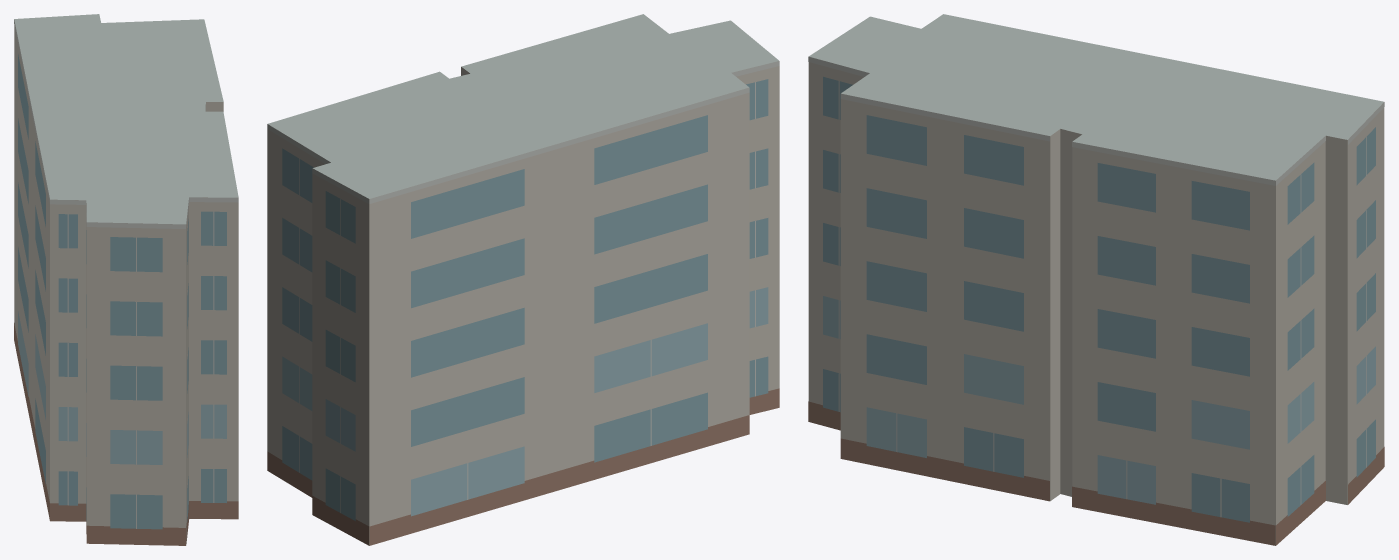
Rendered from survey-upis-32574920.glb.
The picture shows the model from 3 angles, left to right: view 1: azimuth 30°, elevation 25°; view 2: azimuth 150°, elevation 25°; view 3: azimuth 270°, elevation 25°; orthographic projection. The views are drawn at different scales.
Visible parts, largest first — view 1: survey-upis-32574920.tmp; view 2: survey-upis-32574920.tmp; view 3: survey-upis-32574920.tmp.
Boxes of the visible parts, <box> form: survey-upis-32574920.tmp: <box>14,14,238,545</box>; survey-upis-32574920.tmp: <box>267,14,779,545</box>; survey-upis-32574920.tmp: <box>808,14,1384,545</box>.
Size of the model in its own units: 16.25 by 16.6 by 23.73.
